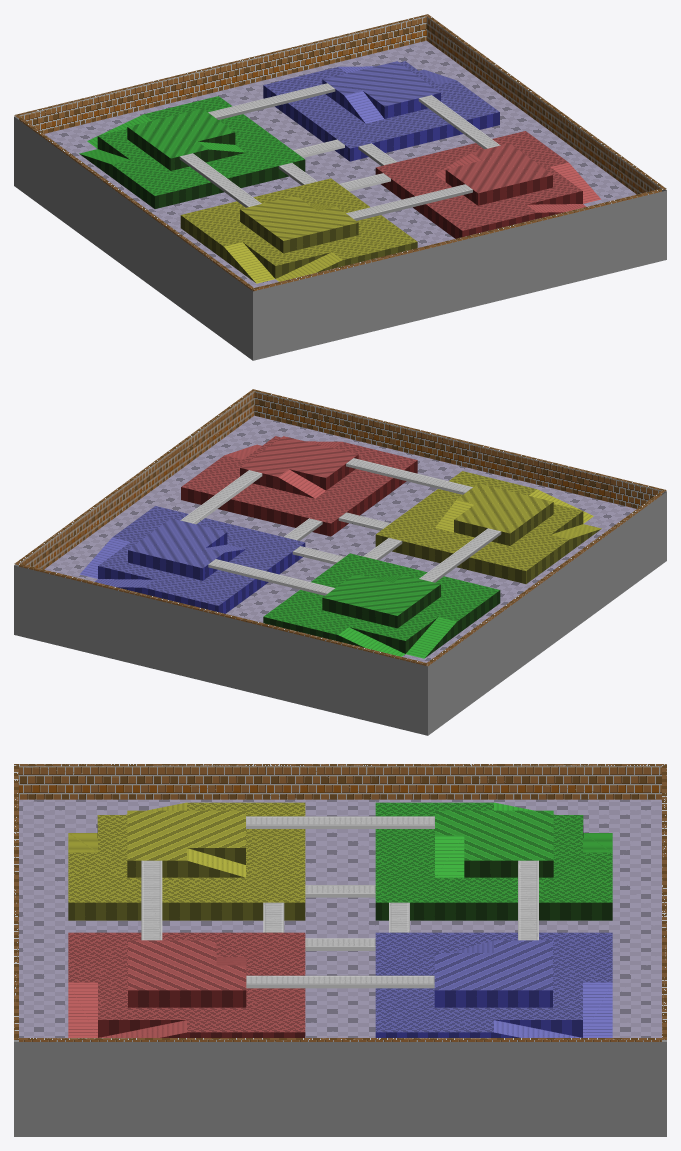
Rendered from blockfort.obj.
3 views of the same model, one above another, from view 1: azimuth 30°, elevation 25°; view 2: azimuth 150°, elevation 25°; view 3: azimuth 270°, elevation 25° (orthographic). The views are drawn at different scales.
Parts seen in each view (by area): view 1: Nemu_0_0_004, Nemu_78DFB3B2_0_029, Nemu_59B704B7_0_009, Nemu_59B704B7_0_010, Nemu_59B704B7_0_007, Nemu_78DFB3B2_0_026, Nemu_59B704B7_0_008, Nemu_704FA54F_0_032, Nemu_704FA54F_0_035, Nemu_4D498049_0_006, Nemu_704FA54F_0_030, Nemu_704FA54F_0_031 (+19 smaller); view 2: Nemu_0_0_004, Nemu_78DFB3B2_0_027, Nemu_59B704B7_0_007, Nemu_59B704B7_0_008, Nemu_59B704B7_0_009, Nemu_78DFB3B2_0_026, Nemu_59B704B7_0_010, Nemu_704FA54F_0_032, Nemu_704FA54F_0_030, Nemu_704FA54F_0_033, Nemu_704FA54F_0_031, Nemu_4D498049_0_008 (+19 smaller); view 3: Nemu_0_0_004, Nemu_78DFB3B2_0_028, Nemu_59B704B7_0_010, Nemu_59B704B7_0_008, Nemu_59B704B7_0_009, Nemu_59B704B7_0_007, Nemu_704FA54F_0_031, Nemu_704FA54F_0_035, Nemu_704FA54F_0_033, Nemu_704FA54F_0_034, Nemu_4D498049_0_008, Nemu_33BDD6BD_0_008 (+19 smaller).
Part boxes in pixels (x1,y1,x2,y2): Nemu_0_0_004: (14, 116, 666, 360); Nemu_78DFB3B2_0_029: (14, 14, 427, 133); Nemu_59B704B7_0_009: (181, 178, 417, 265); Nemu_59B704B7_0_010: (376, 131, 582, 230); Nemu_59B704B7_0_007: (98, 96, 304, 195); Nemu_78DFB3B2_0_026: (426, 14, 666, 194); Nemu_59B704B7_0_008: (263, 61, 499, 148); Nemu_704FA54F_0_032: (411, 41, 636, 204); Nemu_704FA54F_0_035: (44, 40, 426, 172); Nemu_4D498049_0_006: (80, 127, 305, 208); Nemu_704FA54F_0_030: (232, 98, 454, 247); Nemu_704FA54F_0_031: (155, 125, 511, 227); Nemu_0_0_004: (14, 491, 666, 735); Nemu_78DFB3B2_0_027: (253, 389, 666, 508); Nemu_59B704B7_0_007: (263, 553, 499, 640); Nemu_59B704B7_0_008: (98, 506, 304, 605); Nemu_59B704B7_0_009: (376, 471, 582, 570); Nemu_78DFB3B2_0_026: (14, 389, 254, 569); Nemu_59B704B7_0_010: (181, 436, 417, 523); Nemu_704FA54F_0_032: (44, 416, 269, 579); Nemu_704FA54F_0_030: (226, 473, 448, 622); Nemu_704FA54F_0_033: (254, 415, 636, 523); Nemu_704FA54F_0_031: (169, 500, 525, 602); Nemu_4D498049_0_008: (375, 502, 600, 583); Nemu_0_0_004: (14, 1040, 666, 1136); Nemu_78DFB3B2_0_028: (14, 764, 666, 799); Nemu_59B704B7_0_010: (68, 932, 305, 1032); Nemu_59B704B7_0_008: (375, 932, 612, 1032); Nemu_59B704B7_0_009: (68, 802, 305, 902); Nemu_59B704B7_0_007: (375, 802, 612, 902); Nemu_704FA54F_0_031: (305, 829, 375, 1037); Nemu_704FA54F_0_035: (375, 800, 661, 1037); Nemu_704FA54F_0_033: (19, 800, 97, 1037); Nemu_704FA54F_0_034: (19, 799, 661, 832); Nemu_4D498049_0_008: (68, 825, 305, 920); Nemu_33BDD6BD_0_008: (435, 810, 553, 860).
Bounding box in the file's own units: 1.56 × 0.259 × 1.56.
